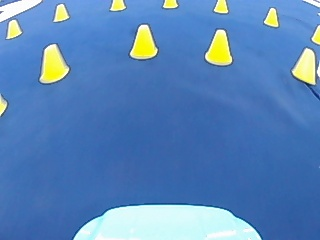cone: (38, 41, 69, 83), (203, 27, 233, 65), (129, 23, 158, 58), (291, 47, 316, 84), (5, 19, 22, 39), (53, 3, 69, 22), (263, 6, 278, 26), (213, 0, 228, 13), (310, 23, 319, 44), (109, 0, 125, 11), (162, 0, 177, 8)
